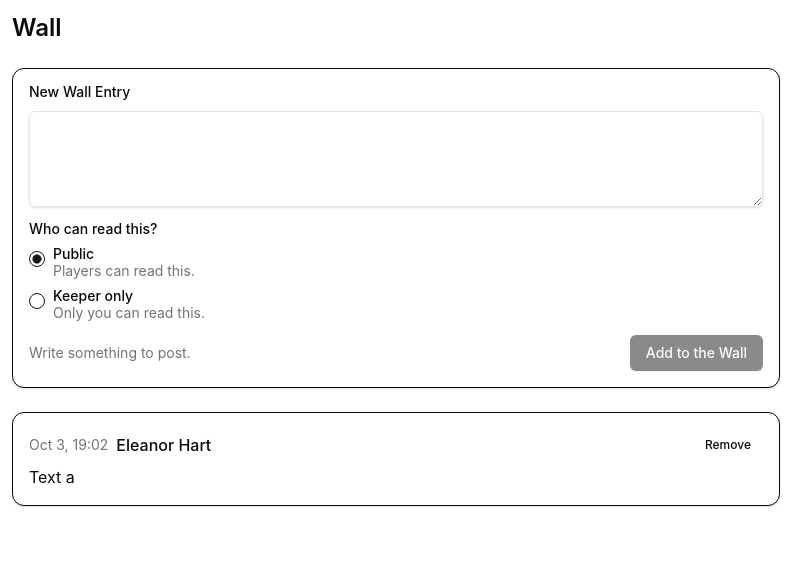
Scenario: CampaignWall › announces "Wall Entry added." after a post is stored (WL-UX-2, WL-A11Y-5)
Type "The lamp goes out." into the text box labelled "New Wall Entry" at (396, 159), box [29,111,763,207]
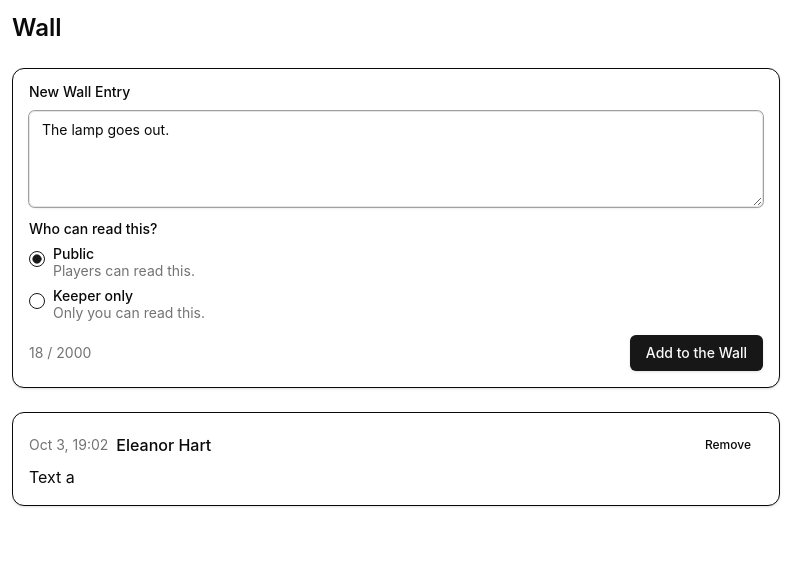
Click the button "Add to the Wall" at (696, 353), box [630,335,763,371]
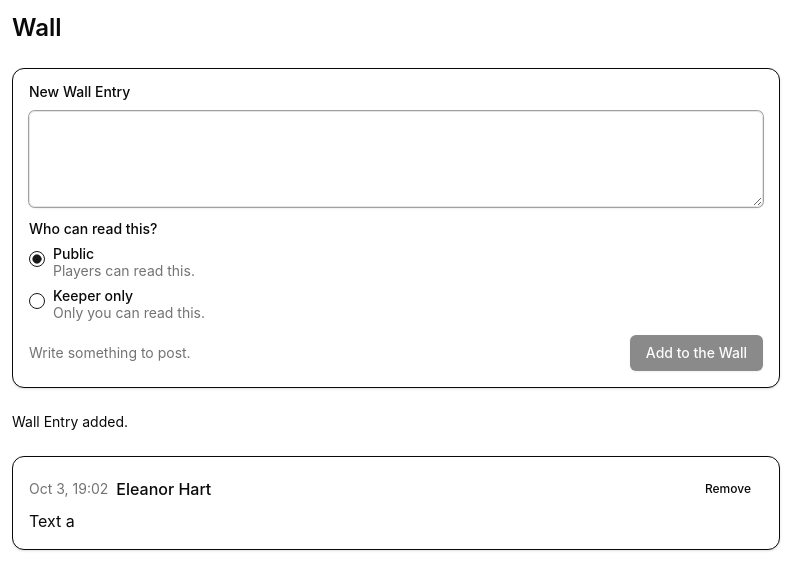
Expected: the text "Wall Entry added." is shown, [12,413,128,430]
